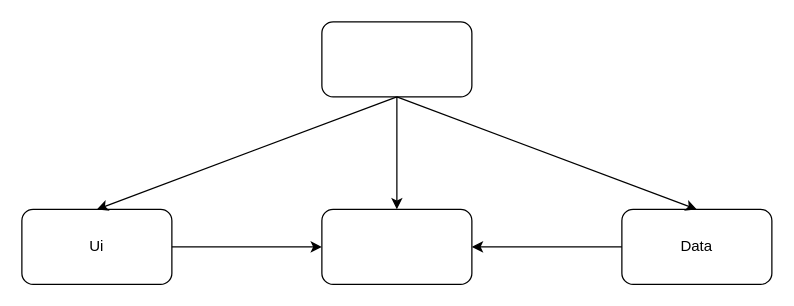
Some shapes in this 794 by 306 pixel diagram are drawn without their labels. Here are the shapes that lost their labels. From the top down, the centre of each, then its label:
At point (396, 59): "App".
At point (396, 246): "Domain".
